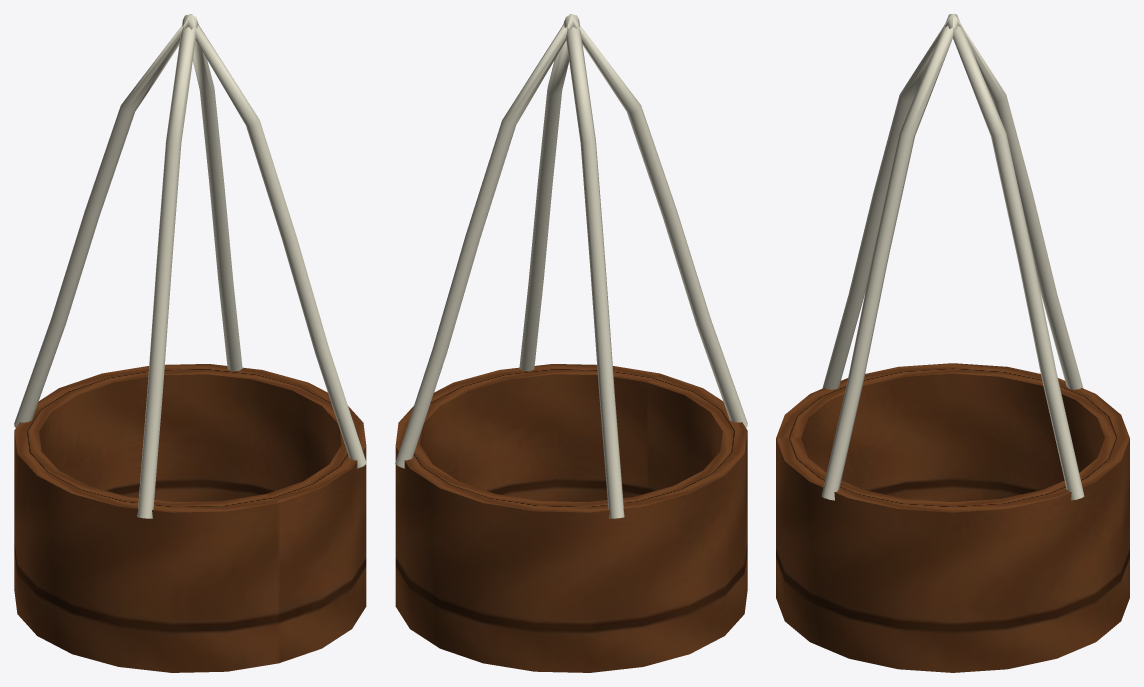
File: survival-food-and-preservation-hanging-food-basket-e32954b7__21798.glb
3 renders of one model, left to right at view 1: azimuth 30°, elevation 25°; view 2: azimuth 150°, elevation 25°; view 3: azimuth 270°, elevation 25°, orthographic.
Parts seen in each view (by area): view 1: hanging-food-basket; view 2: hanging-food-basket; view 3: hanging-food-basket.
Part boxes in pixels (x1,y1,x2,y2): hanging-food-basket: (14, 14, 366, 672); hanging-food-basket: (395, 14, 747, 672); hanging-food-basket: (776, 14, 1129, 672).
Bounding box in the file's own units: 0.4 × 0.729 × 0.4.
2 materials, 1 textured.
